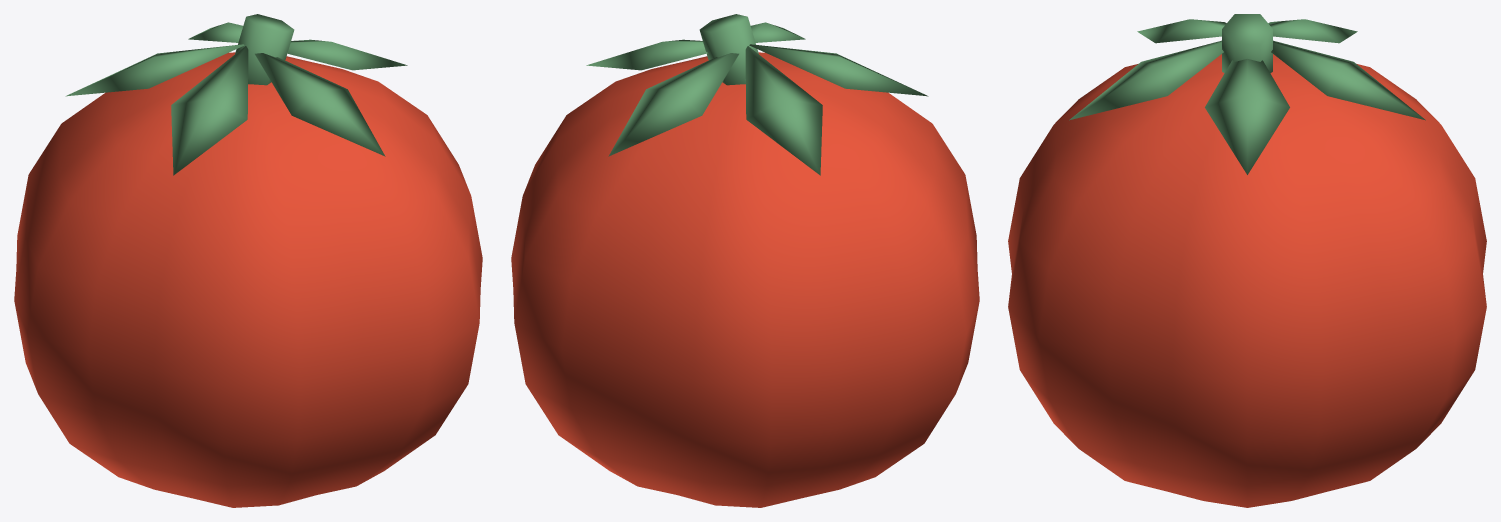
The model's file is fruit.glb.
3 views of the same model, side by side, from view 1: azimuth 30°, elevation 25°; view 2: azimuth 150°, elevation 25°; view 3: azimuth 270°, elevation 25° (orthographic).
Visible parts, largest first — view 1: fruit; view 2: fruit; view 3: fruit.
Part boxes in pixels (<box>): fruit: <box>14,14,482,507</box>; fruit: <box>511,14,979,507</box>; fruit: <box>1008,14,1486,507</box>.
Bounding box in the file's own units: 0.0609 × 0.0608 × 0.056.
